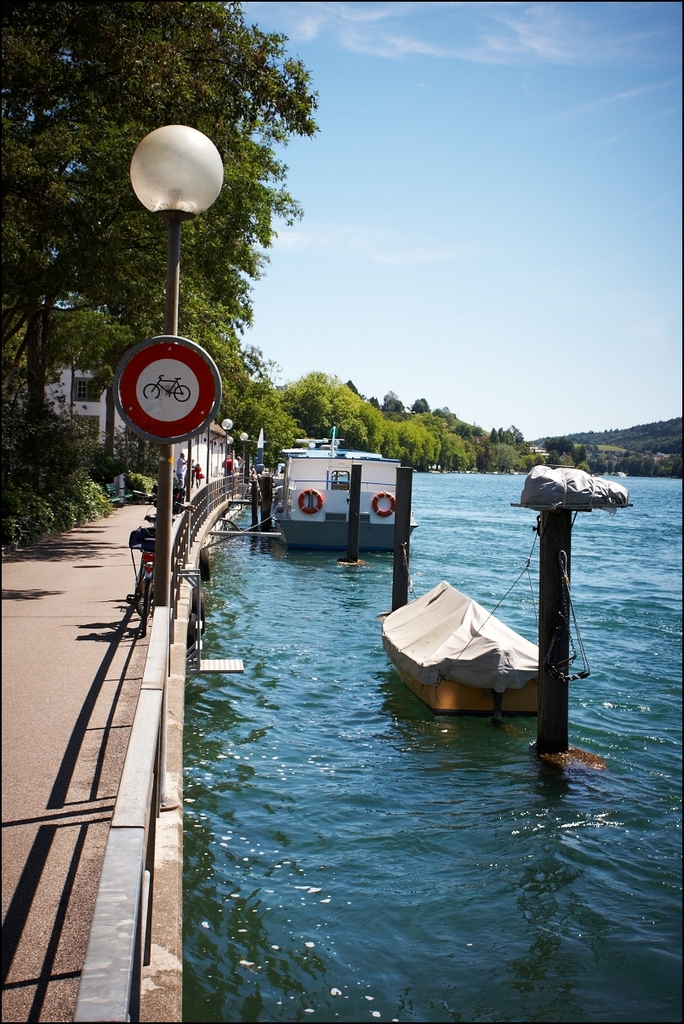Tree: (0, 10, 314, 521), (313, 369, 683, 470)
